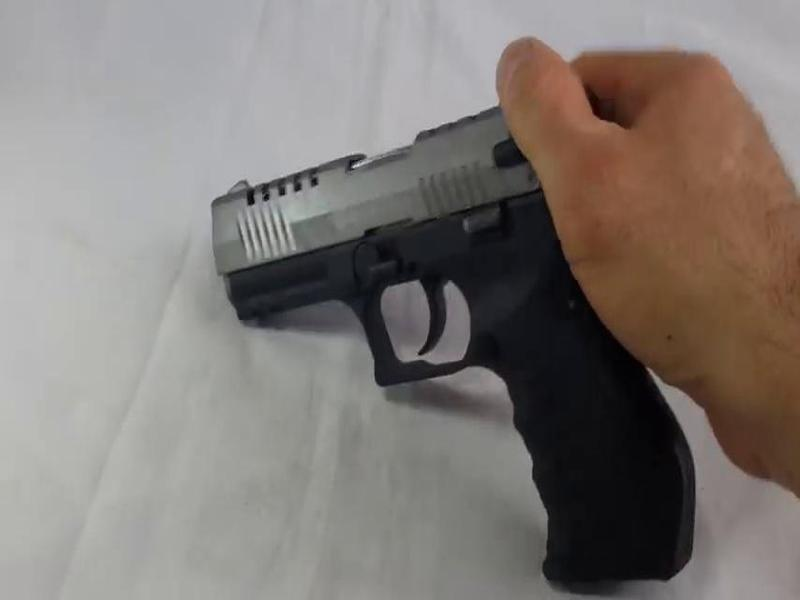Pistola: (136, 74, 727, 589)
